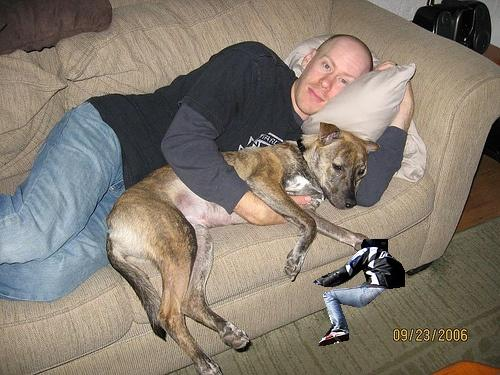tampered: (314, 240, 405, 346)
